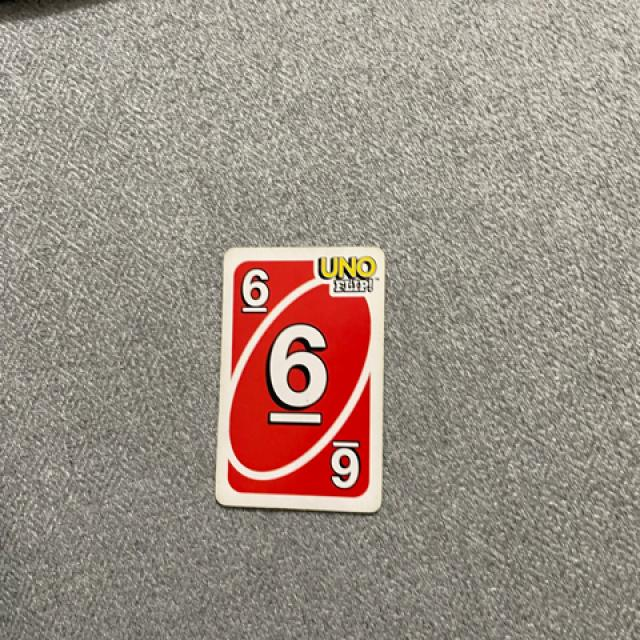lred-6: (231, 258, 280, 321)
